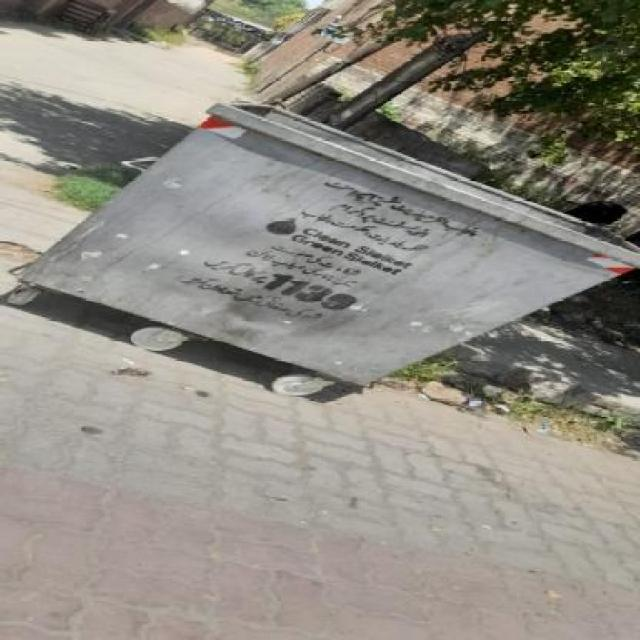garbage: (396, 359, 639, 433)
